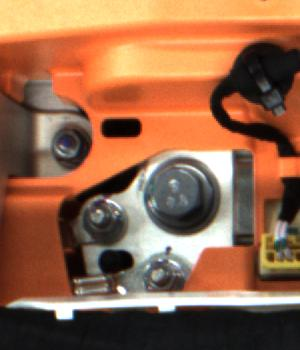nut_b: (146, 154, 229, 235)
